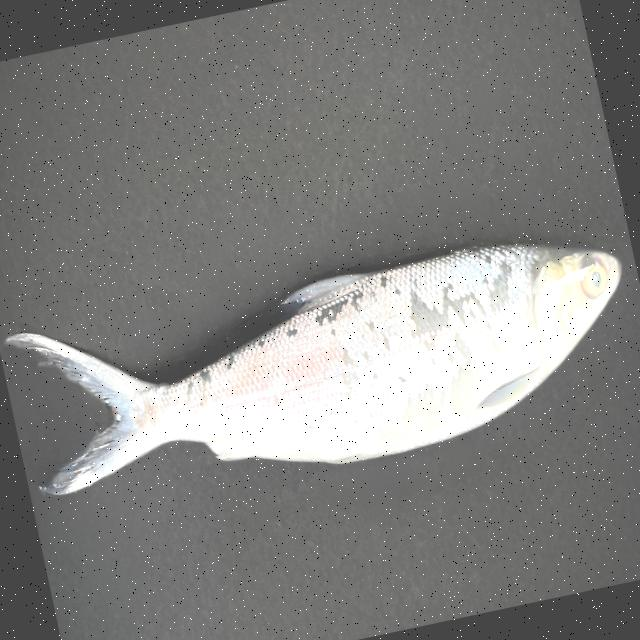805 g: (4, 207, 640, 527)
